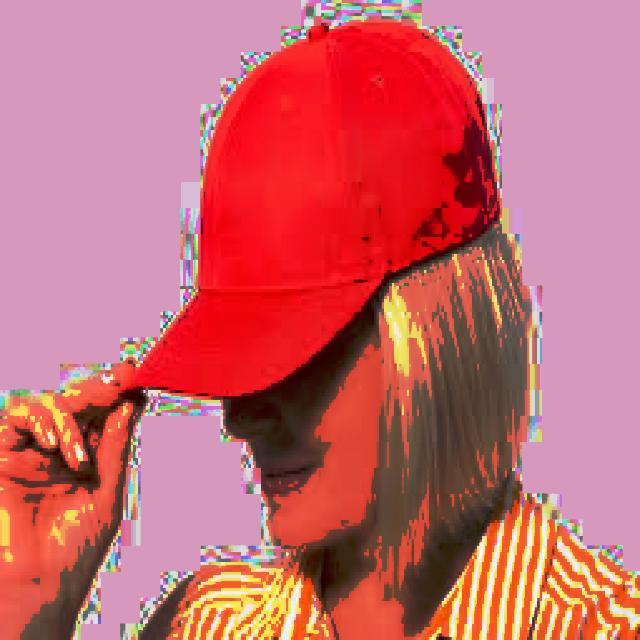TOPI: (113, 9, 504, 400)
